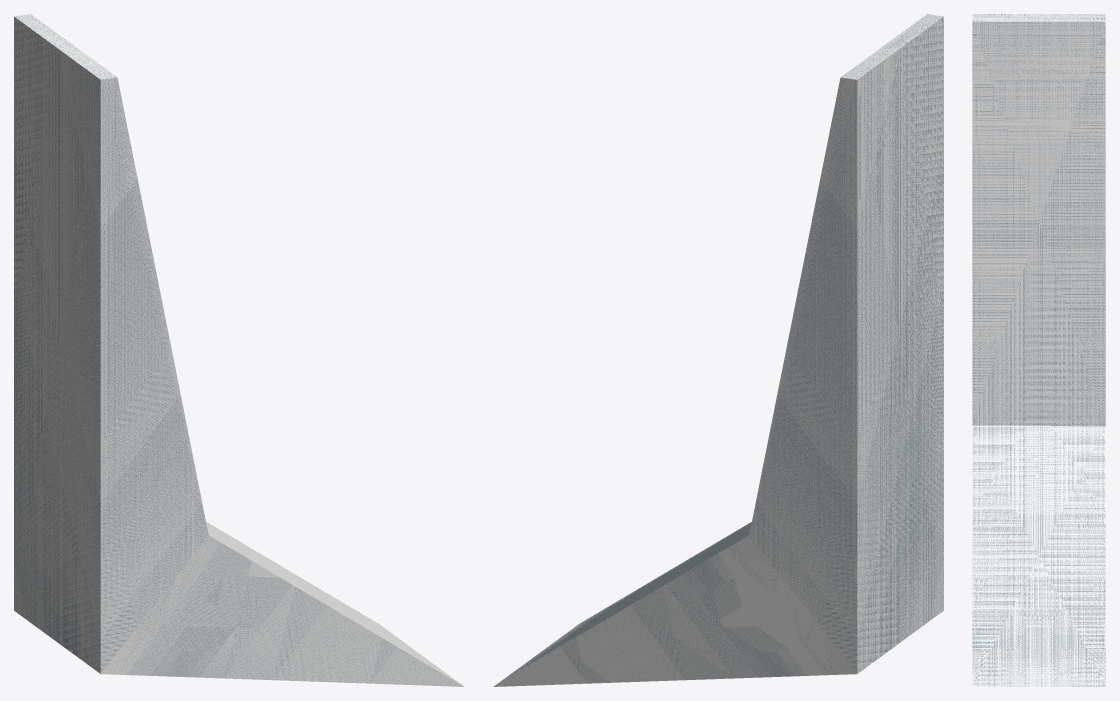
Rendered from pusher2Car.dae.
3 renders of one model, left to right at view 1: azimuth 30°, elevation 25°; view 2: azimuth 150°, elevation 25°; view 3: azimuth 270°, elevation 25°, orthographic. The views are drawn at different scales.
Parts seen in each view (by area): view 1: instance_0; view 2: instance_0; view 3: instance_0.
Boxes of the visible parts, x1=… form: instance_0: x1=14, y1=14, x2=464, y2=686; instance_0: x1=493, y1=14, x2=943, y2=686; instance_0: x1=972, y1=14, x2=1105, y2=686.
Bounding box in the file's own units: 8.47 × 3.49 × 15.47.
